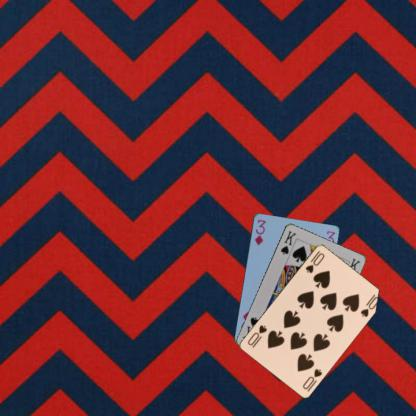10s: (303, 248, 326, 274), (300, 366, 323, 390)
3d: (252, 217, 267, 246)
Ks: (278, 228, 297, 256)
